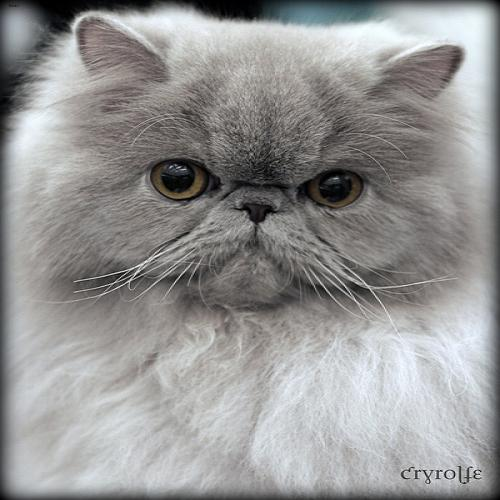persian: (59, 3, 472, 333)
